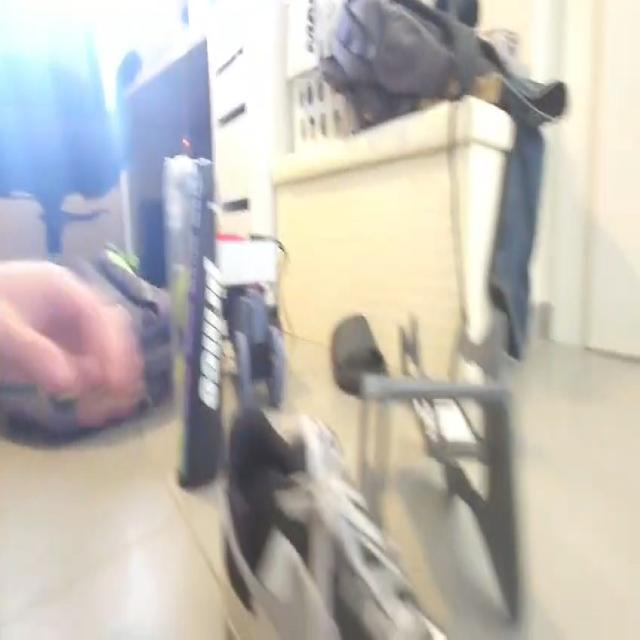Robot: (214, 229, 286, 408)
